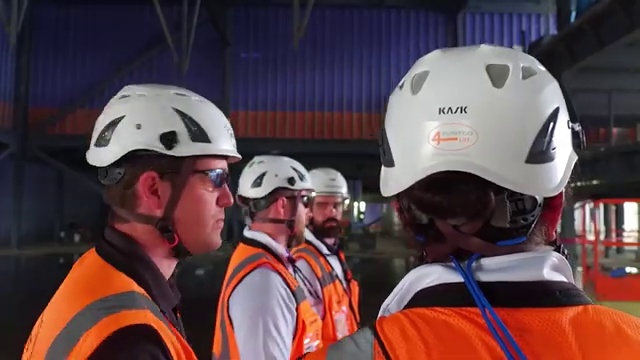helmet: (372, 40, 589, 206), (81, 77, 244, 166), (235, 144, 314, 202), (309, 159, 352, 200)
jacket: (25, 247, 191, 360), (358, 298, 640, 348), (218, 244, 331, 360), (299, 241, 367, 323)
